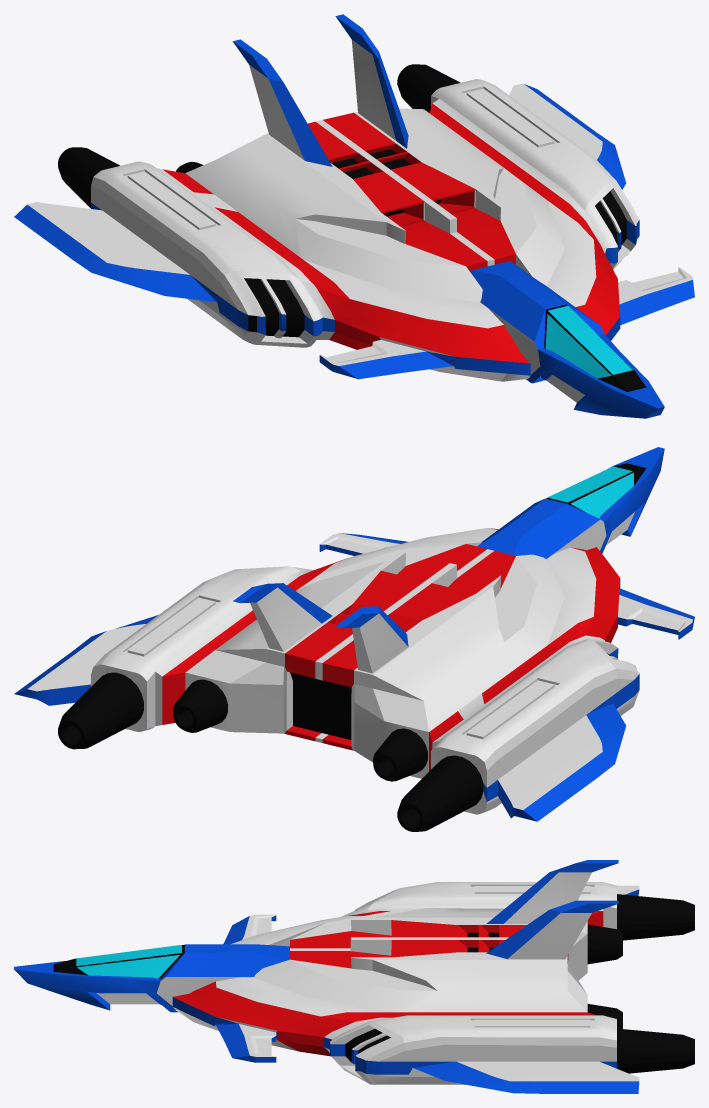
Rendered from Bomber.fbx.
3 renders of one model, top to bottom at view 1: azimuth 30°, elevation 25°; view 2: azimuth 150°, elevation 25°; view 3: azimuth 270°, elevation 25°, orthographic. The views are drawn at different scales.
Visible parts, largest first — view 1: Hull, Cockpit, Glass; view 2: Hull, Cockpit, Glass; view 3: Hull, Cockpit, Glass.
Boxes of the visible parts, bbox=[...] form: Hull: bbox=[14, 14, 694, 381]; Cockpit: bbox=[470, 261, 664, 418]; Glass: bbox=[544, 304, 646, 391]; Hull: bbox=[14, 528, 694, 831]; Cockpit: bbox=[477, 447, 664, 559]; Glass: bbox=[546, 463, 646, 518]; Hull: bbox=[172, 860, 694, 1093]; Cockpit: bbox=[14, 944, 289, 1012]; Glass: bbox=[53, 945, 184, 978].
Bounding box in the file's own units: 1222 × 355 × 1701.
